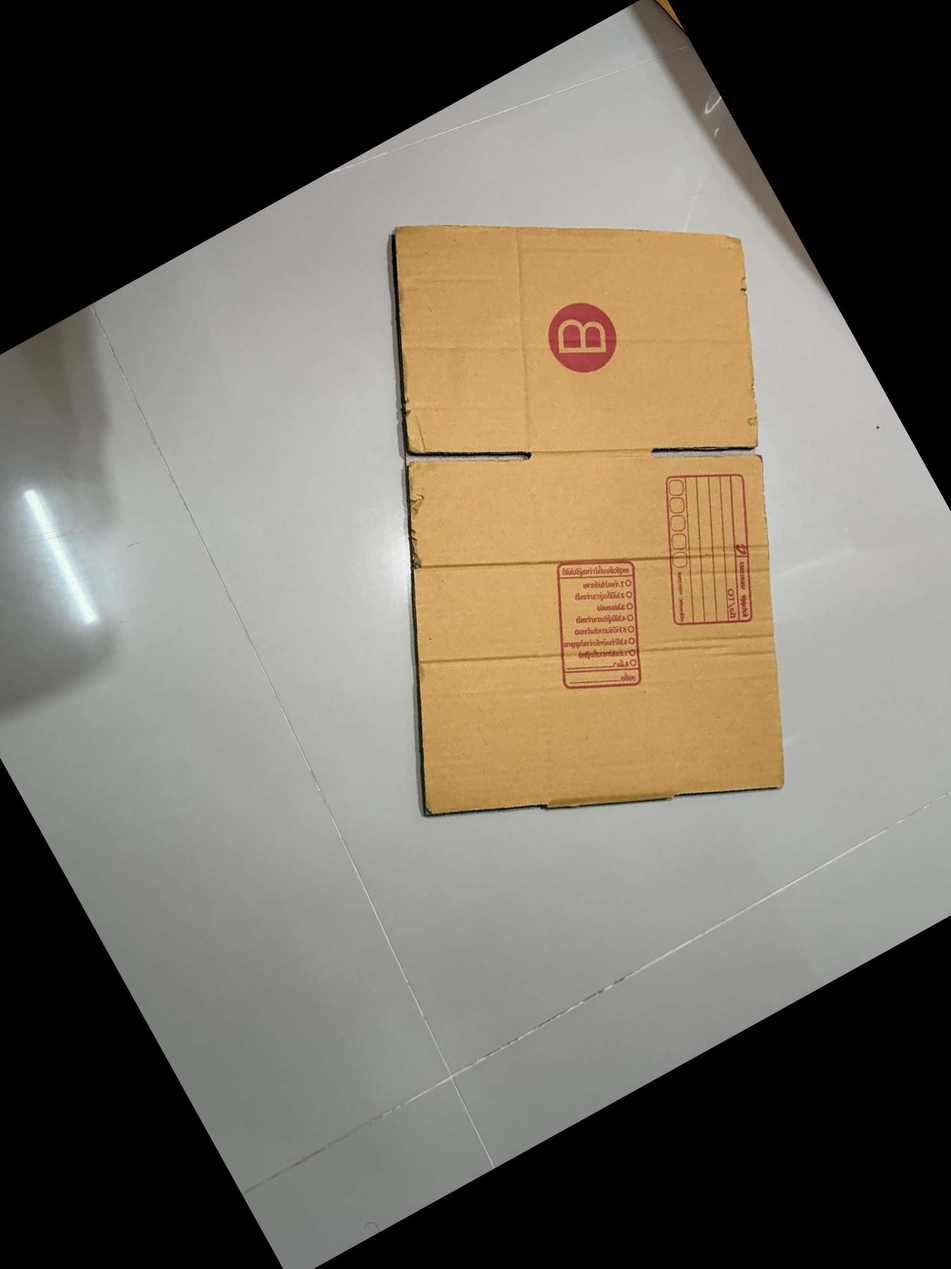box: (507, 523, 690, 733), (666, 473, 754, 625), (531, 275, 642, 388)
class0: (128, 61, 951, 1003)
